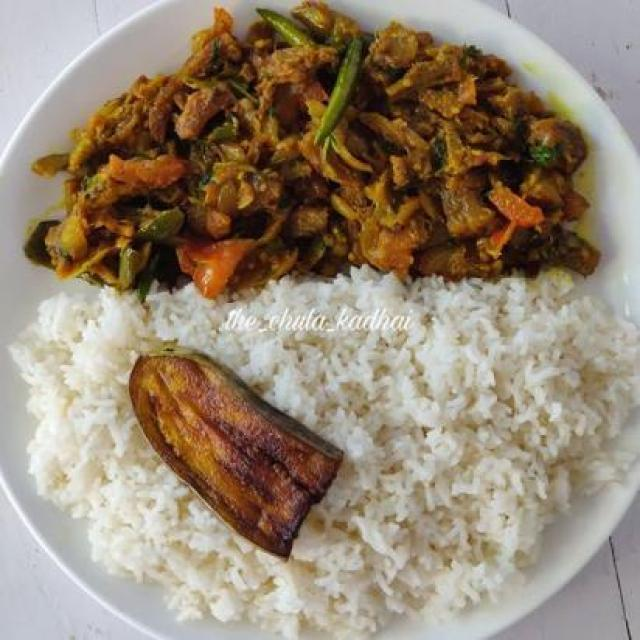Rice: (27, 264, 616, 615)
